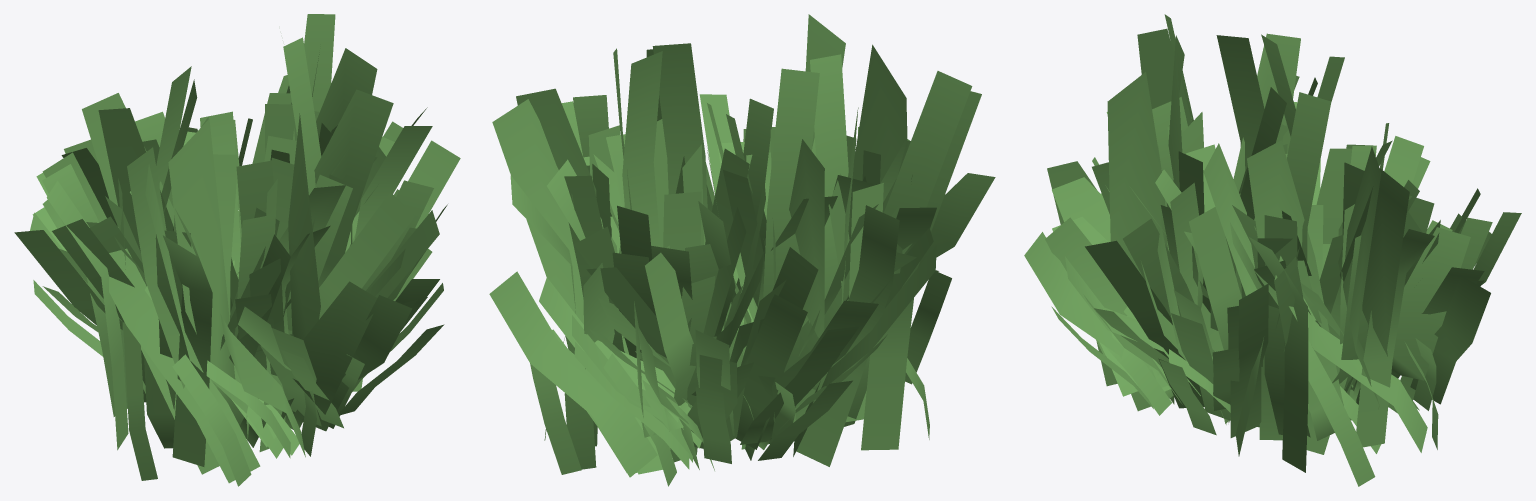
Rendered from grass.fbx.
3 renders of one model, left to right at view 1: azimuth 30°, elevation 25°; view 2: azimuth 150°, elevation 25°; view 3: azimuth 270°, elevation 25°, orthographic. The views are drawn at different scales.
Visible parts, largest first — view 1: grass_variant_1; view 2: grass_variant_1; view 3: grass_variant_1.
Part boxes in pixels (left/top/right/bottom): grass_variant_1: left=14, top=14, right=460, bottom=486; grass_variant_1: left=489, top=14, right=995, bottom=486; grass_variant_1: left=1024, top=14, right=1521, bottom=486.
Size of the model in its own units: 30.42 by 25.72 by 32.54.
